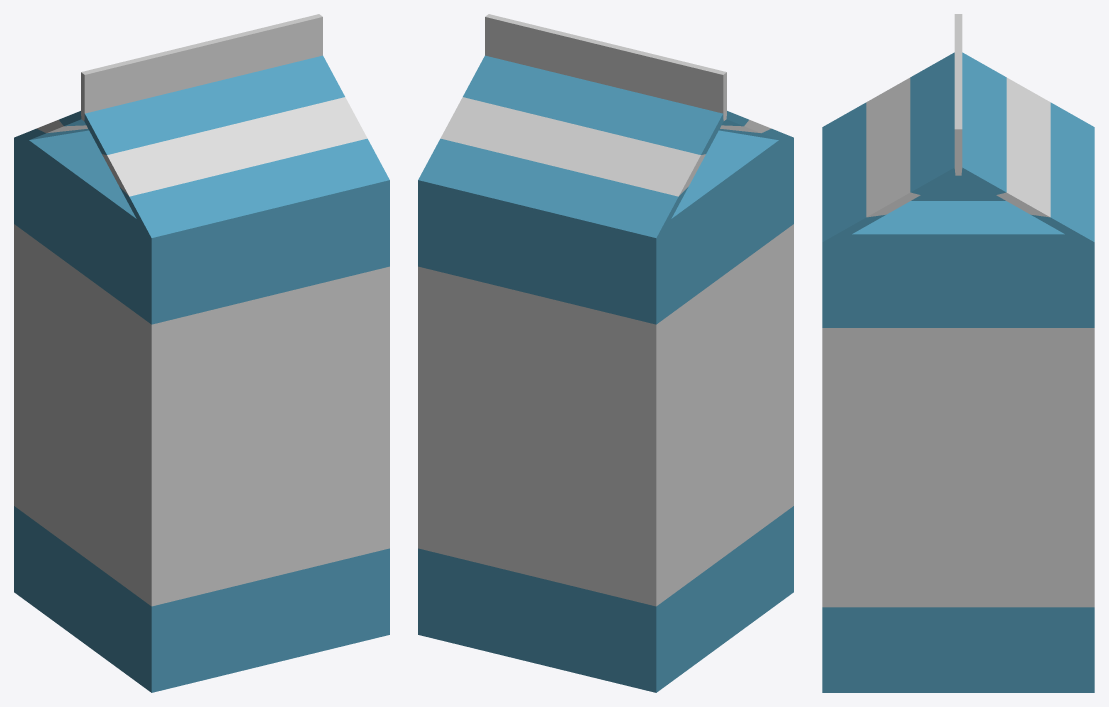
The model's file is Milk Carton.fbx.
The picture shows the model from 3 angles, left to right: view 1: azimuth 30°, elevation 25°; view 2: azimuth 150°, elevation 25°; view 3: azimuth 270°, elevation 25°; orthographic projection.
Visible parts, largest first — view 1: Milk Carton; view 2: Milk Carton; view 3: Milk Carton.
Boxes of the visible parts, x1,y1,x2,y2 form: Milk Carton: (14,14,389,692); Milk Carton: (418,14,793,692); Milk Carton: (822,14,1094,692).
Bounding box in the file's own units: 22.17 × 50.6 × 22.17.
1 material, 1 textured.
